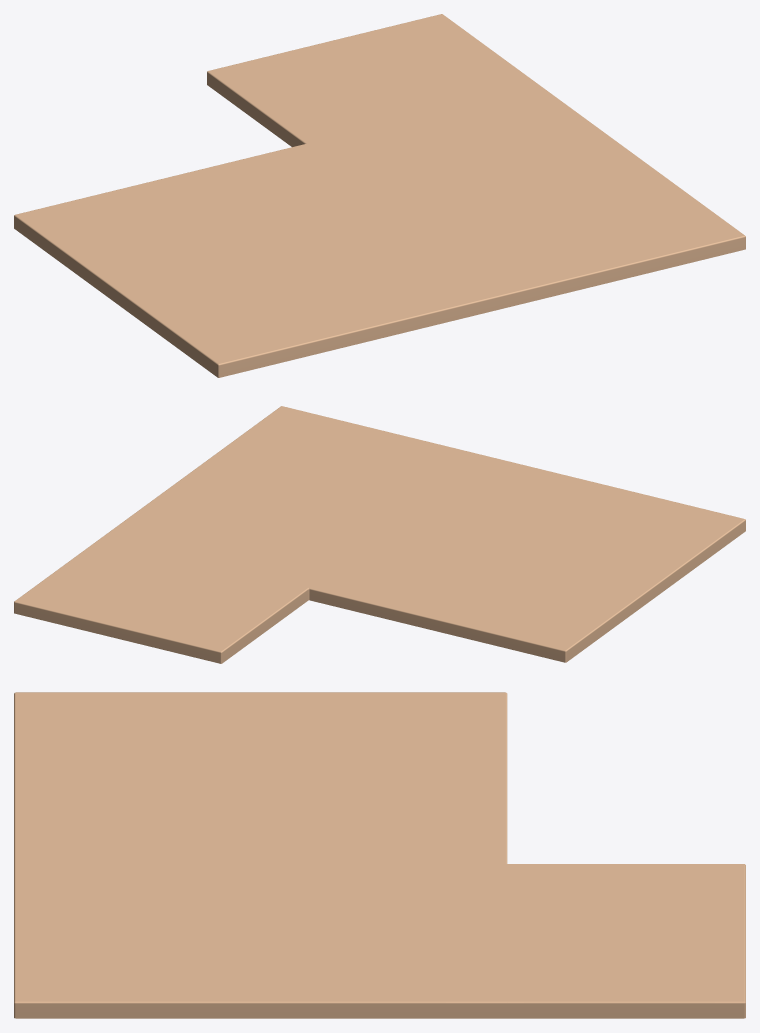
Rendered from garden.fbx.
The picture shows the model from 3 angles, top to bottom: view 1: azimuth 30°, elevation 25°; view 2: azimuth 150°, elevation 25°; view 3: azimuth 270°, elevation 25°; orthographic projection. The views are drawn at different scales.
Visible parts, largest first — view 1: Cube.002; view 2: Cube.002; view 3: Cube.002.
Boxes of the visible parts, bbox=[...] form: Cube.002: bbox=[14, 14, 745, 377]; Cube.002: bbox=[14, 406, 745, 663]; Cube.002: bbox=[14, 692, 745, 1018].
Bounding box in the file's own units: 8168 × 200 × 8143.
